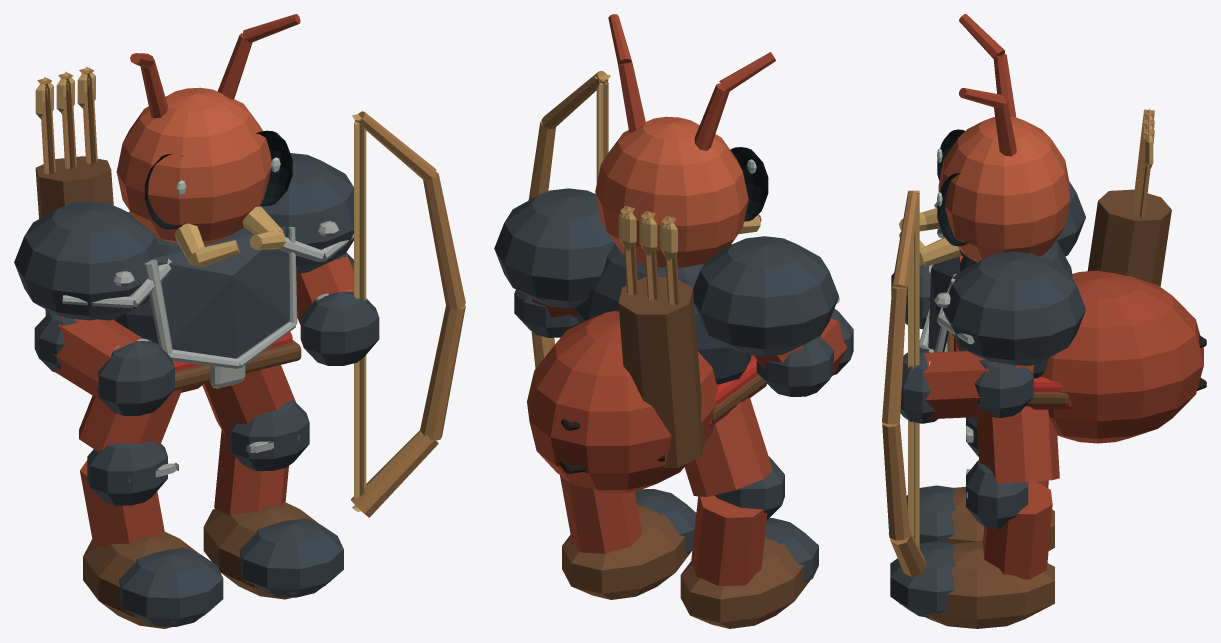
Rendered from archer.glb.
3 renders of one model, left to right at view 1: azimuth 30°, elevation 25°; view 2: azimuth 150°, elevation 25°; view 3: azimuth 270°, elevation 25°, orthographic. The views are drawn at different scales.
Parts seen in each view (by area): view 1: archer; view 2: archer; view 3: archer.
Boxes of the visible parts, x1,y1,x2,y2 form: archer: (14, 14, 465, 628); archer: (494, 14, 853, 628); archer: (882, 14, 1206, 628).
Size of the model in its own units: 1.43 by 2.09 by 1.13.
